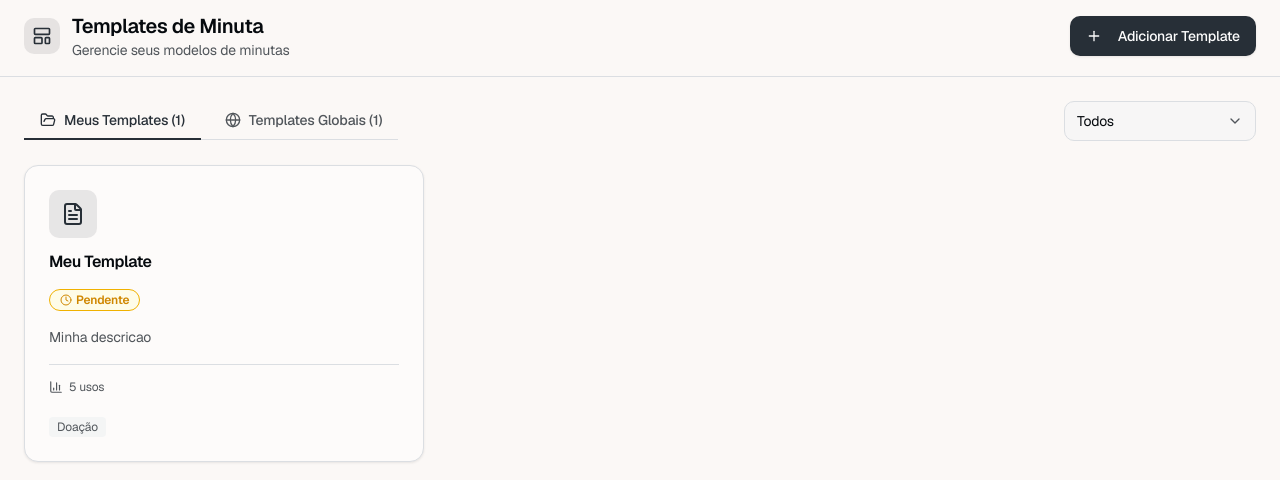
DashboardMinutasPadrao › Tabs - Templates Globais › shows only global templates in Templates Globais tab
Note: Switch to global tab
Click the tab "Templates Globais (1)": (304, 121) [209,102,398,140]
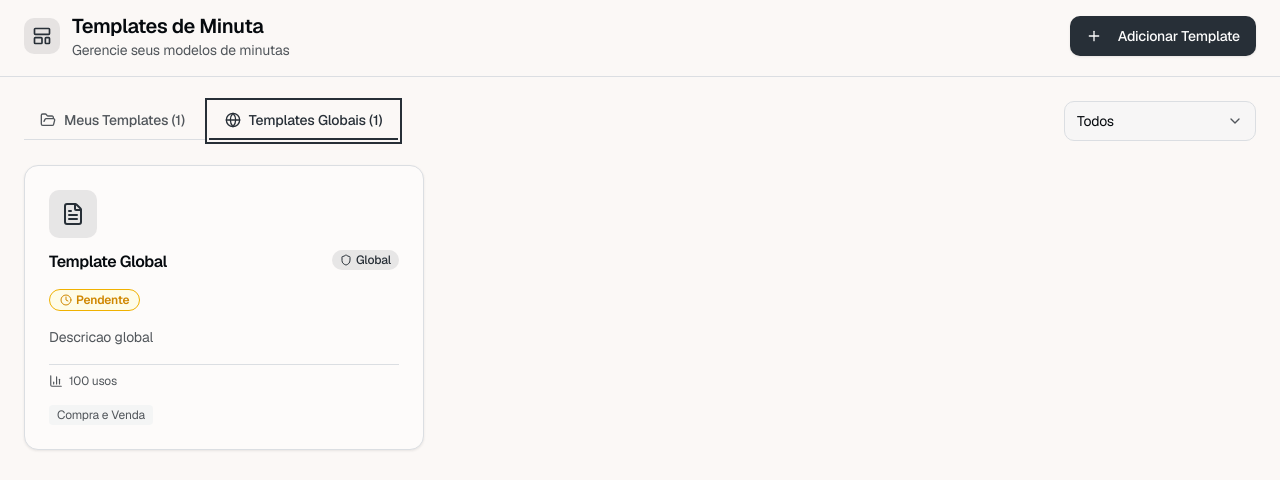
Check: the heading "Template Global" is shown, box [49,250,167,274]
Check: the heading "Meu Template" is gone
